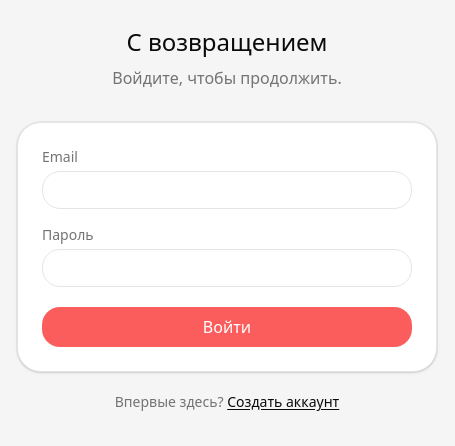
Test: shows a 401 error on bad credentials
Type "a@b.com" into the field labelled "Email" at [227, 190], box [42,171,412,209]
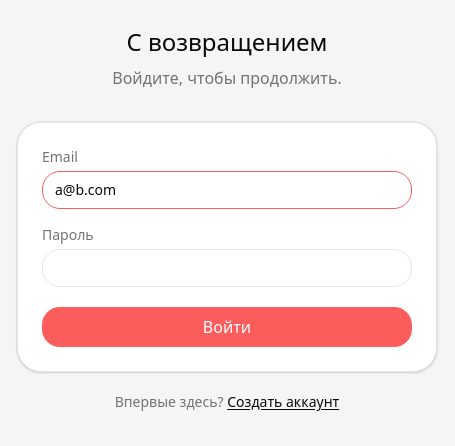
Type "nope1234" into the password field labelled "Пароль" at [227, 268], box [42,249,412,287]
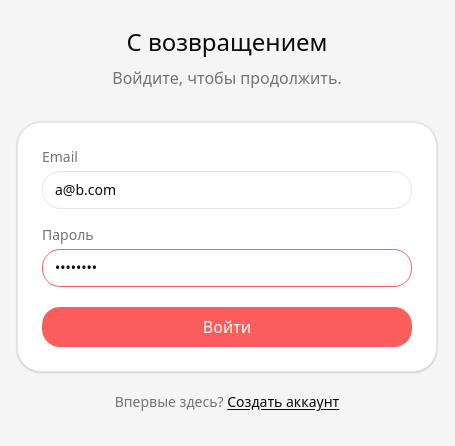
Click the button "Войти" at [227, 327], box [42,307,412,347]
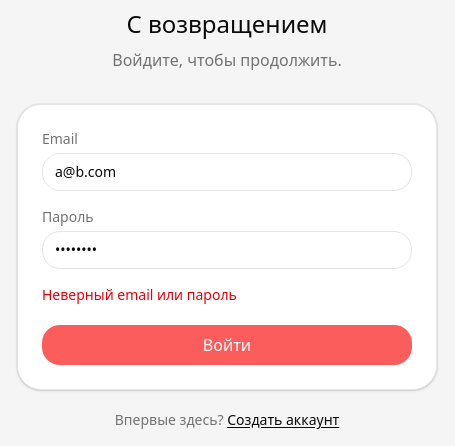
Expected: the text "Неверный email или пароль" is shown, [42,285,237,304]
